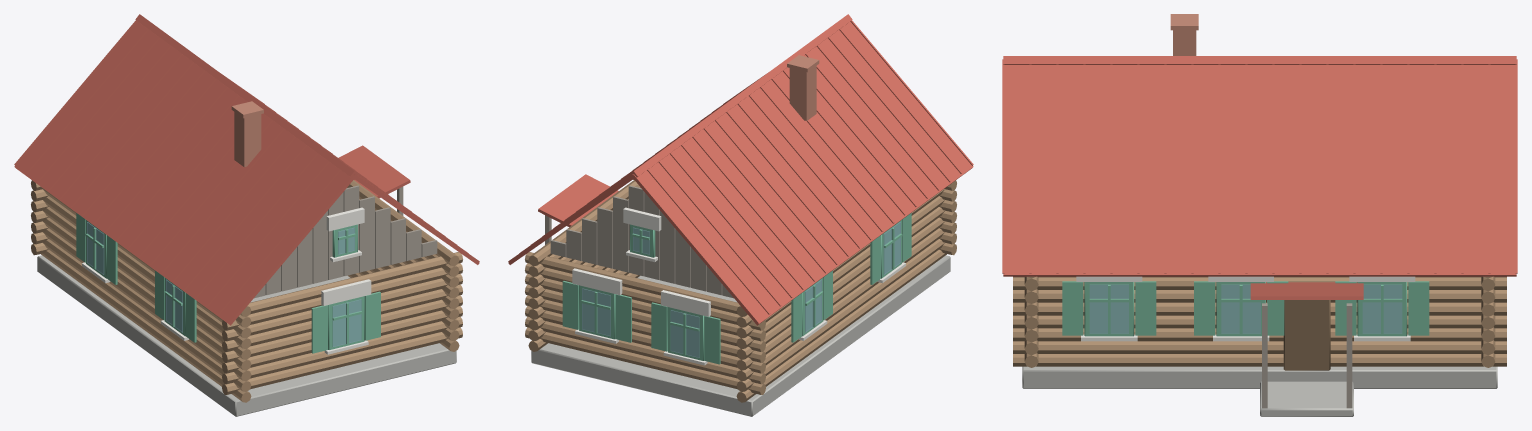
Rendered from Chata_Podlaska_B.fbx.
3 renders of one model, left to right at view 1: azimuth 30°, elevation 25°; view 2: azimuth 150°, elevation 25°; view 3: azimuth 270°, elevation 25°, orthographic. The views are drawn at different scales.
Visible parts, largest first — view 1: Chata_Podlaska_B; view 2: Chata_Podlaska_B; view 3: Chata_Podlaska_B.
Part boxes in pixels (x1,y1,x2,y2): Chata_Podlaska_B: [14, 14, 479, 416]; Chata_Podlaska_B: [508, 14, 973, 416]; Chata_Podlaska_B: [1002, 14, 1517, 416].
Bounding box in the file's own units: 8.36 × 6.73 × 10.95.
